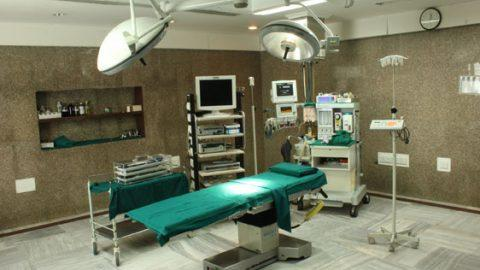Monitor: (188, 67, 241, 117), (266, 74, 302, 107)
Saline Stand: (359, 47, 425, 265)
bed: (90, 162, 330, 269)
tools_table: (85, 154, 192, 270)
